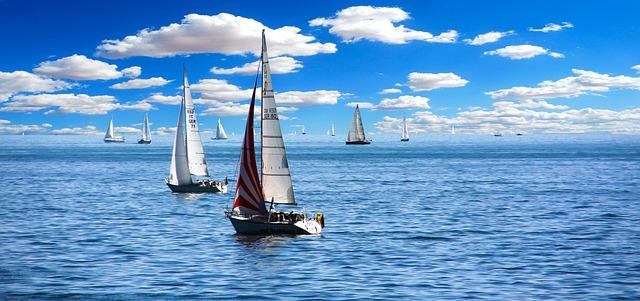Ship: (231, 31, 324, 234), (169, 66, 229, 193), (341, 104, 380, 147), (136, 111, 156, 149), (100, 117, 125, 147), (211, 114, 231, 145), (399, 115, 413, 145)
